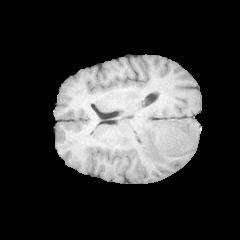glioma: (135, 119, 196, 164)
